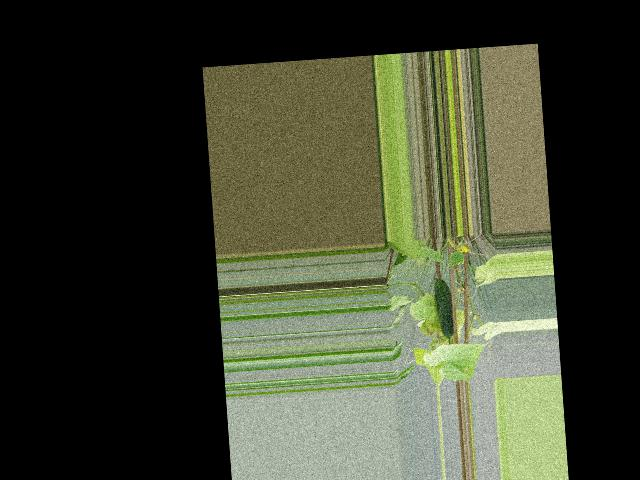cucumber: (433, 277, 454, 338)
